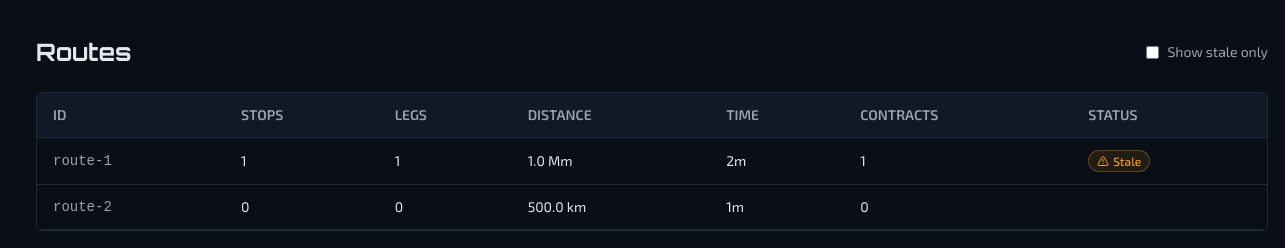
Test: RouteListPage › navigates to detail page when clicking a row
Expected: the heading "Routes" is shown, [36,36,131,68]
Click the text "route-1". click: (82, 161)
box: [37,138,225,184]
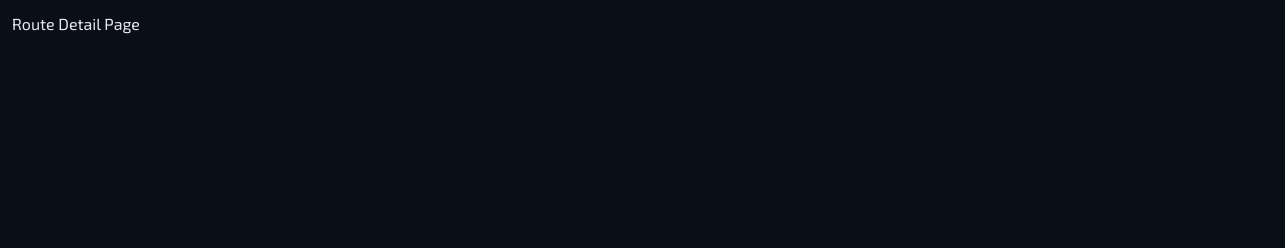
Expected: the text "Route Detail Page" is shown, [12,14,140,33]
